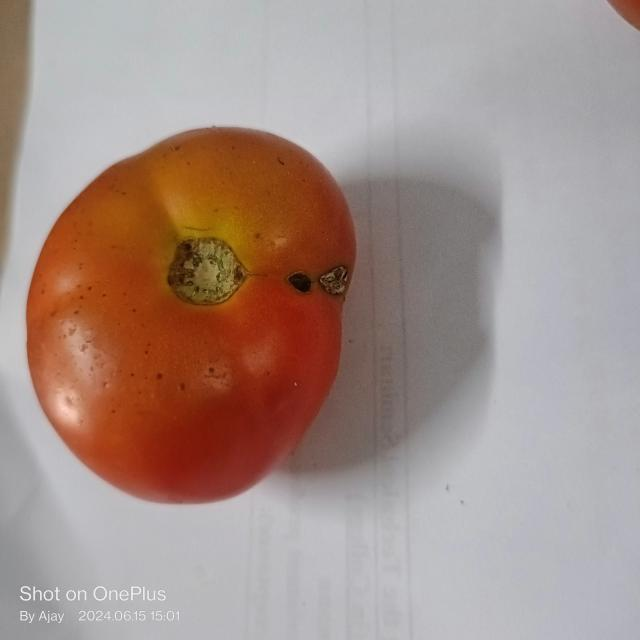fruitworm_bore: (285, 264, 320, 305)
